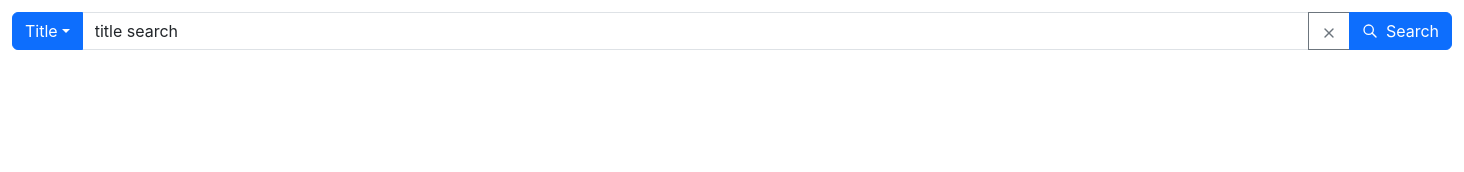
Test: Snippet Components › SnippetSearch › updates search value when switching search type
Expected: the field with placeholder "Search by title..." holds "title search", [82,12,1309,50]
Switch to code search
Click the button "Title" at (47, 31), box [12,12,83,50]
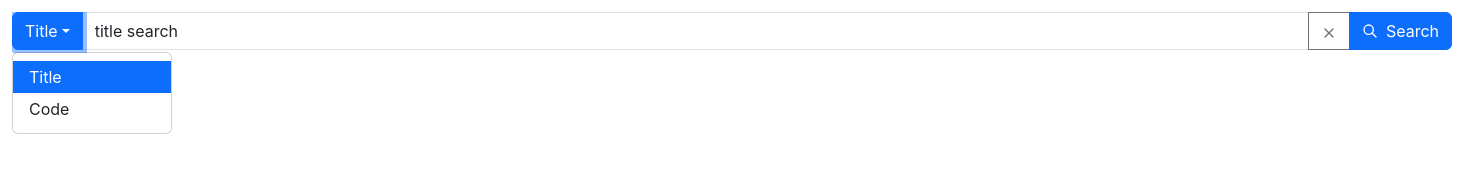
Click the button "Code" at (49, 109), box [29,99,69,119]
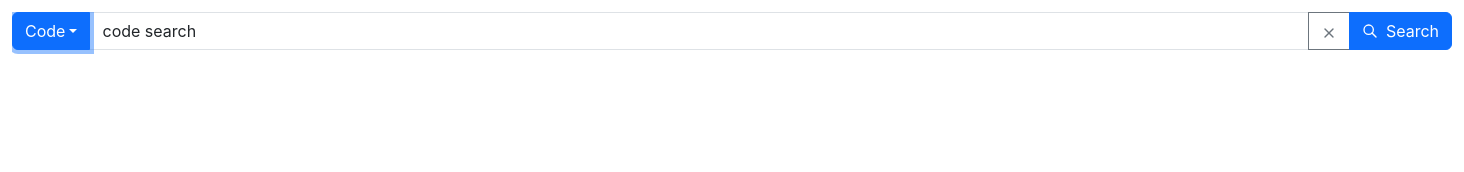
Expected: the field with placeholder "Search by code..." holds "code search", [90,12,1309,50]
